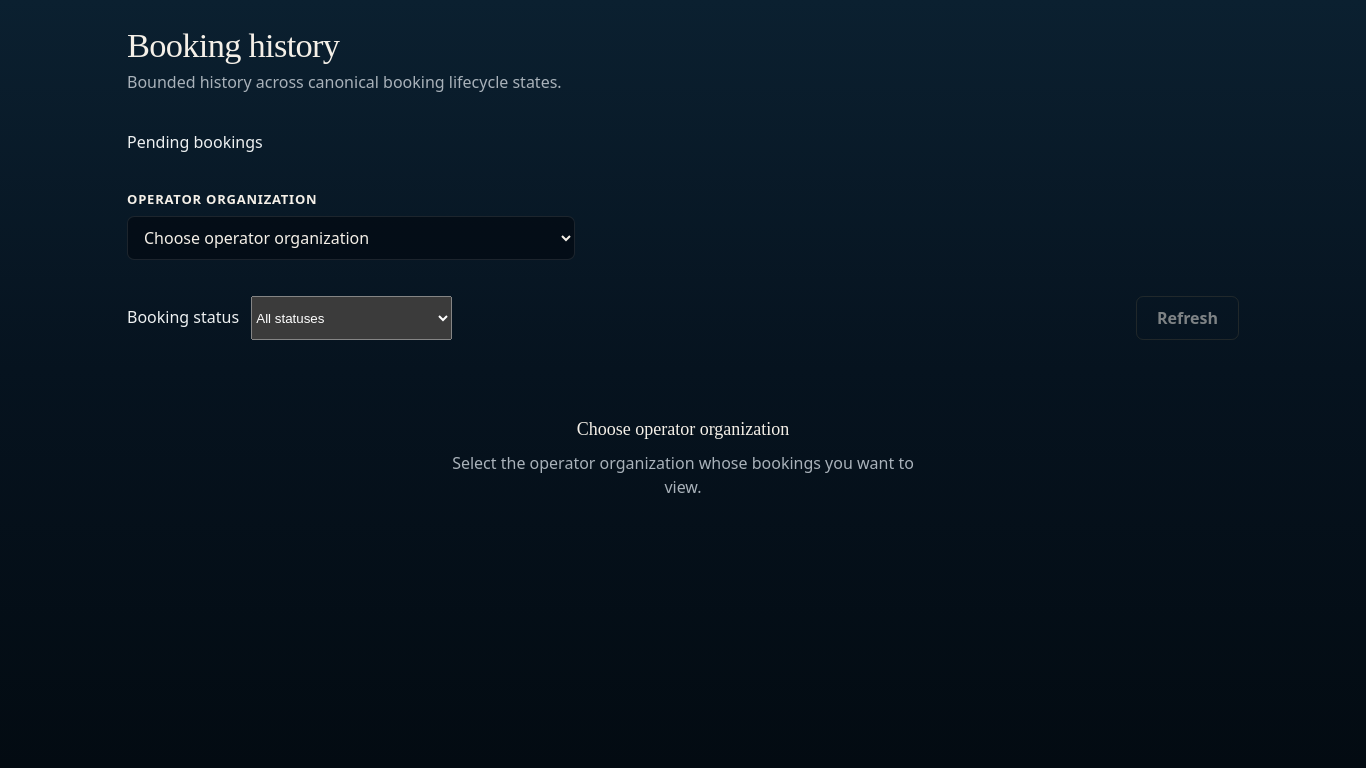
Test: OperatorBookingHistory › enforces monotonic epochs across A to B to A even when abort is ignored
The width and height of the screenshot is (1366, 768).
Select "Operator organization 1 — OPERATOR_ADMIN" in the dropdown labelled "Operator organization" at [351, 238], box [127,216,575,260]
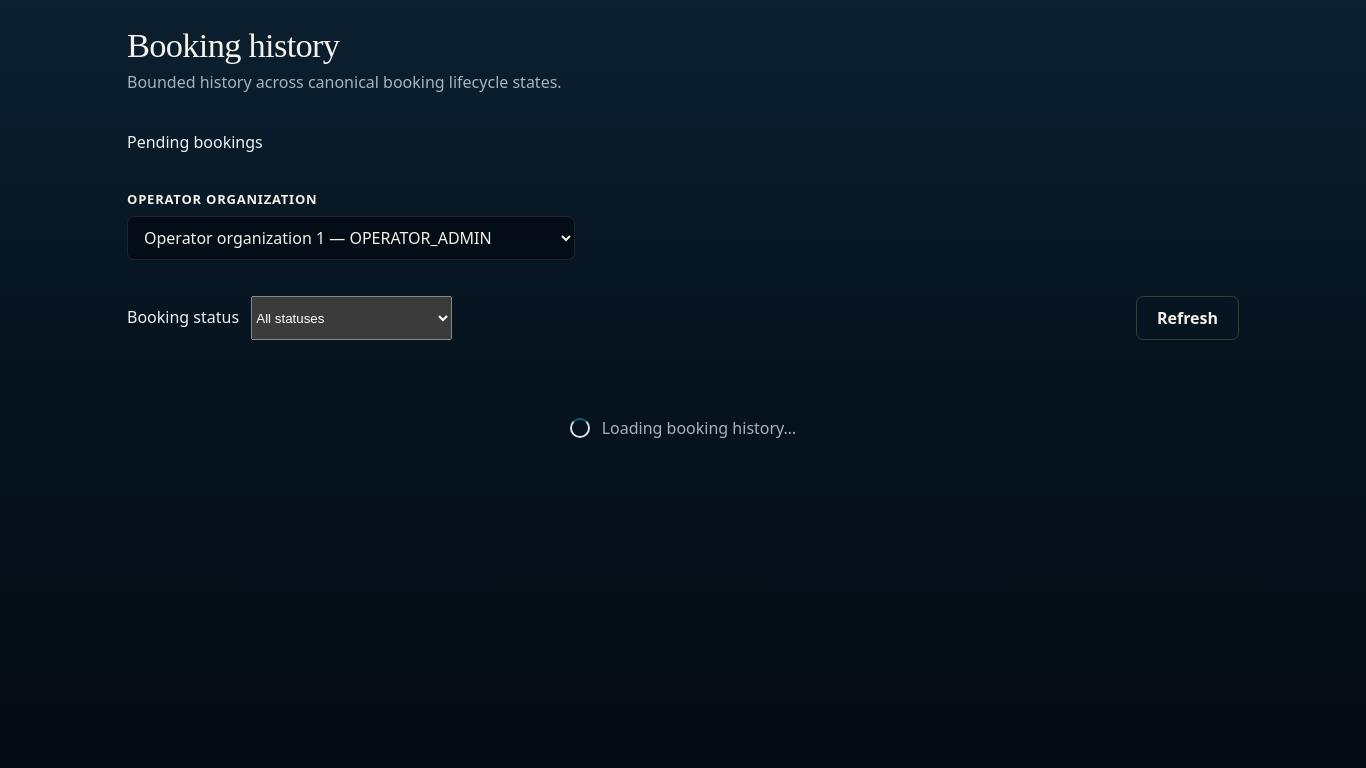
Select "Operator organization 2 — OPERATOR_SALES" in the dropdown labelled "Operator organization" at [351, 238], box [127,216,575,260]
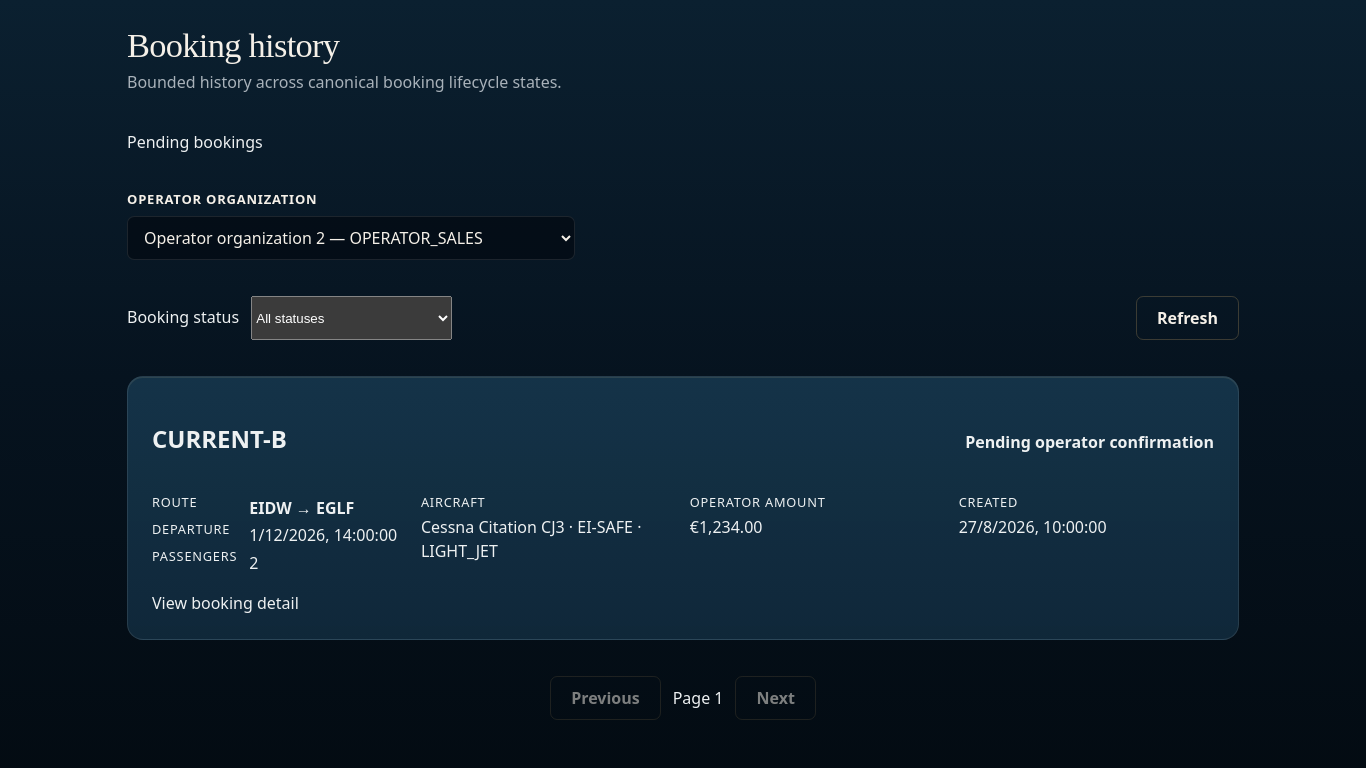
Now the heading "CURRENT-B" is shown, box [152,421,287,457]
Select "Operator organization 1 — OPERATOR_ADMIN" in the dropdown labelled "Operator organization" at [351, 238], box [127,216,575,260]
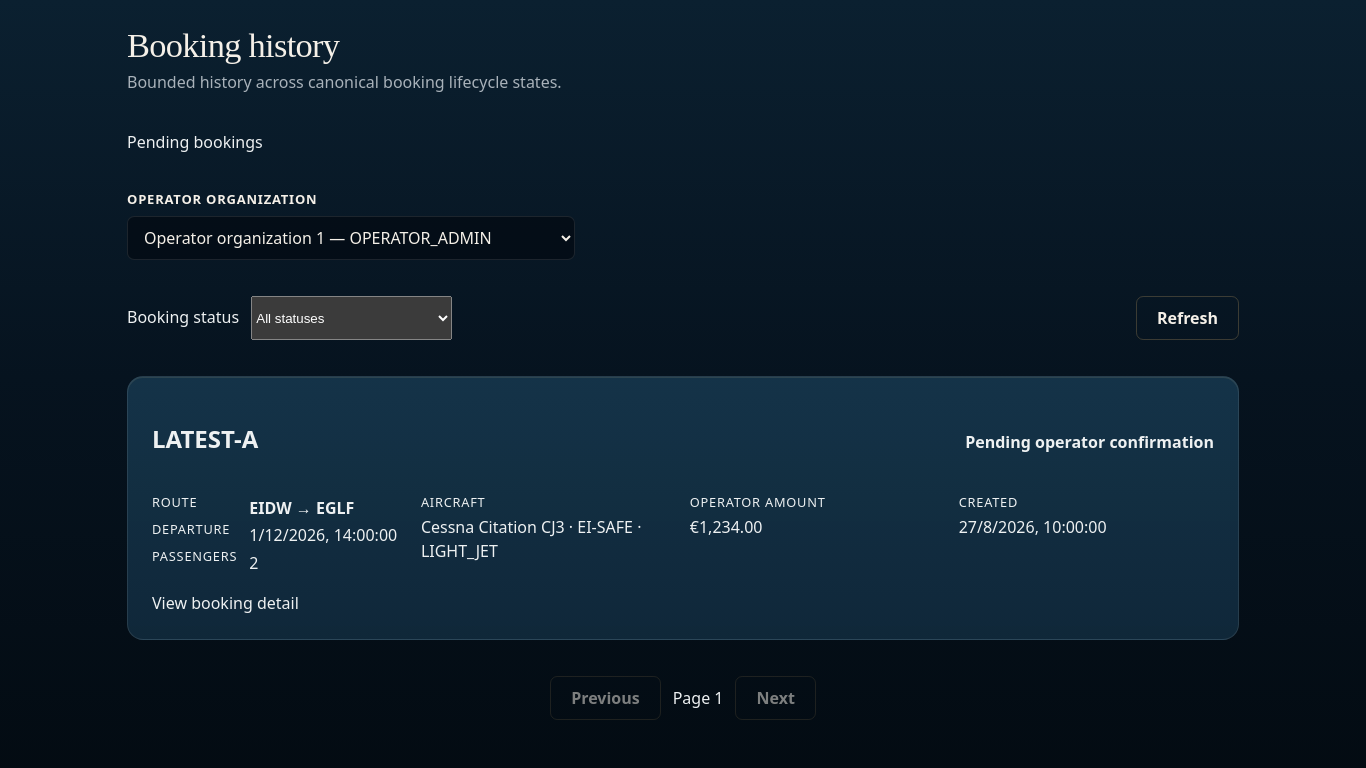
Now the heading "LATEST-A" is shown, box [152,421,258,457]
